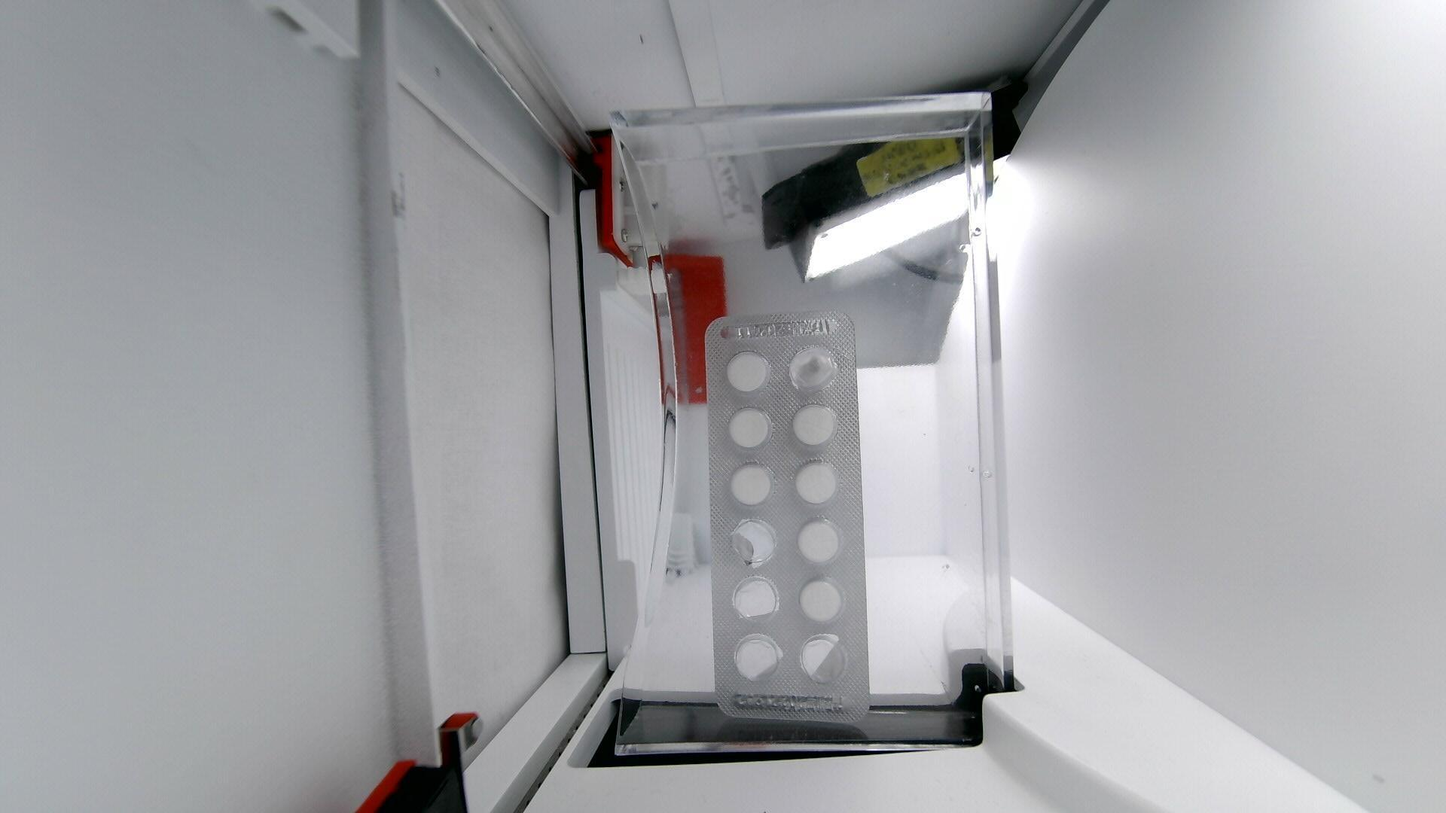Light Front: (706, 312, 869, 722)
No Pill Front: (789, 343, 838, 392), (798, 634, 847, 683), (733, 634, 782, 681), (731, 519, 776, 568), (732, 576, 779, 618)
Pill Front: (793, 461, 840, 505), (797, 517, 840, 564), (799, 578, 843, 623), (792, 405, 838, 446), (728, 407, 771, 449), (729, 463, 773, 504), (728, 352, 770, 394)
